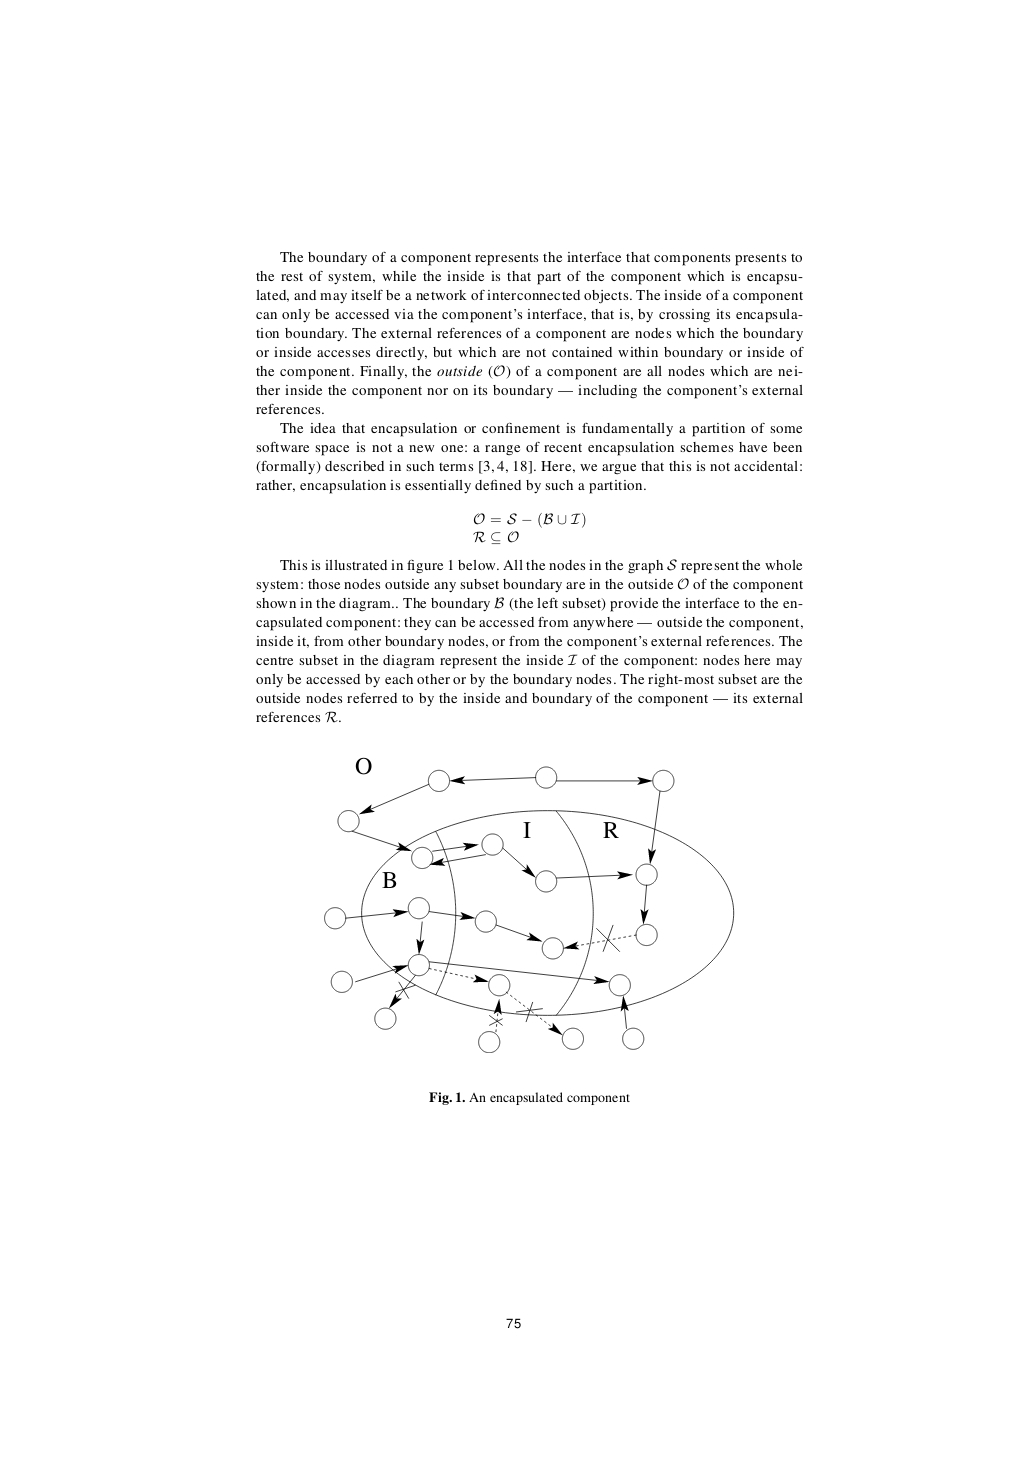figure: (324, 756, 734, 1053)
formula: (473, 512, 585, 528), (473, 530, 518, 545)
